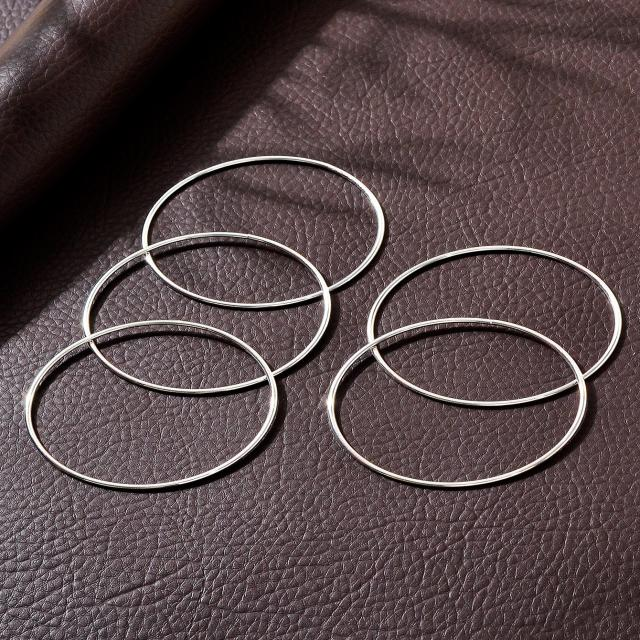bracelet: (24, 109, 610, 553)
